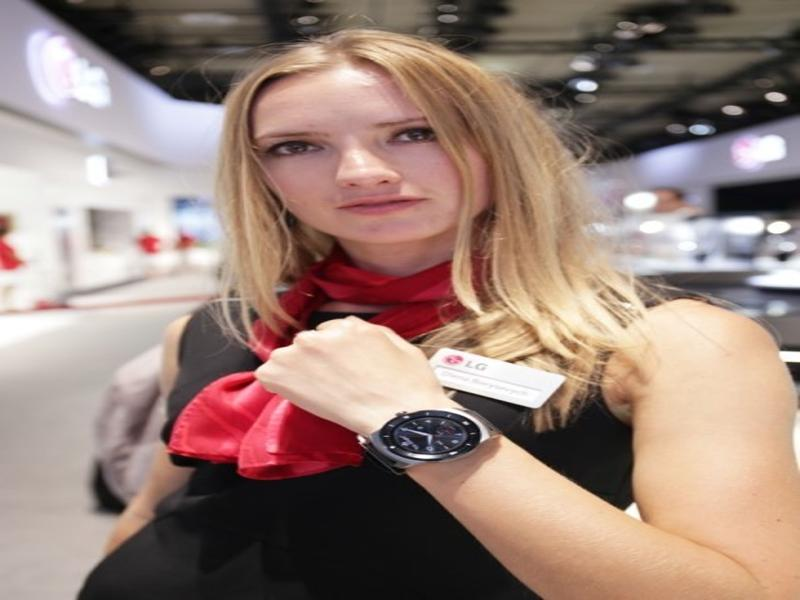watch: (354, 405, 503, 474)
